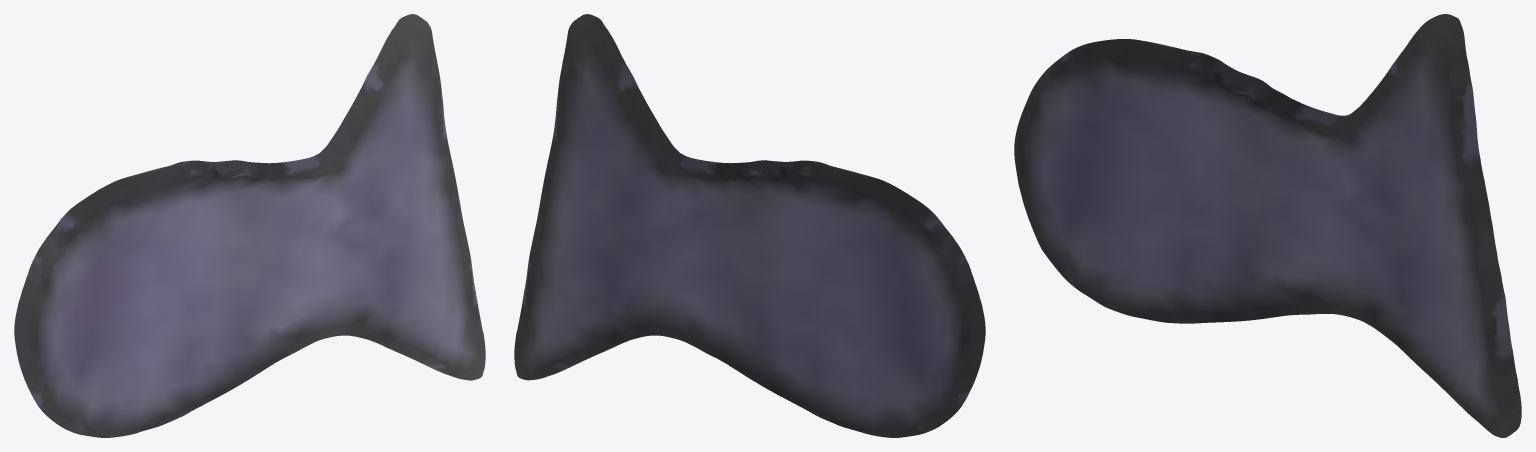
3 views of the same model, side by side, from view 1: azimuth 30°, elevation 25°; view 2: azimuth 150°, elevation 25°; view 3: azimuth 330°, elevation 25° (orthographic). The views are drawn at different scales.
Bounding box in the file's own units: 0.0392 × 0.0299 × 0.00199.
